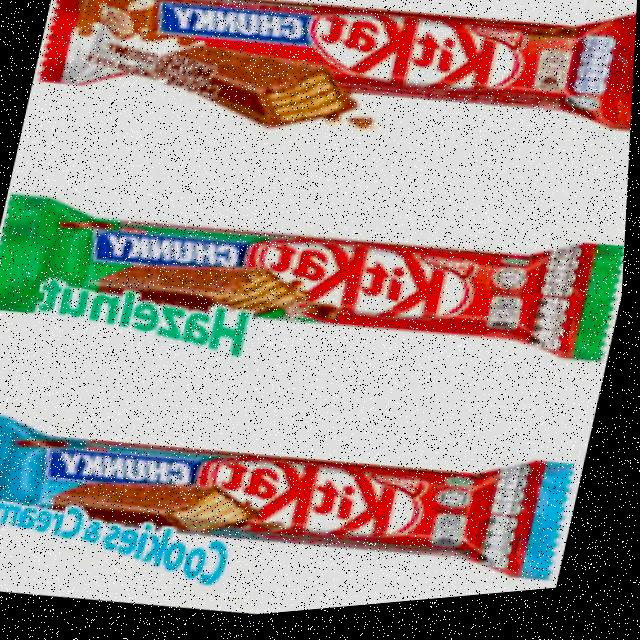kitkat: (0, 147, 632, 425), (0, 366, 580, 630), (33, 0, 640, 199)
